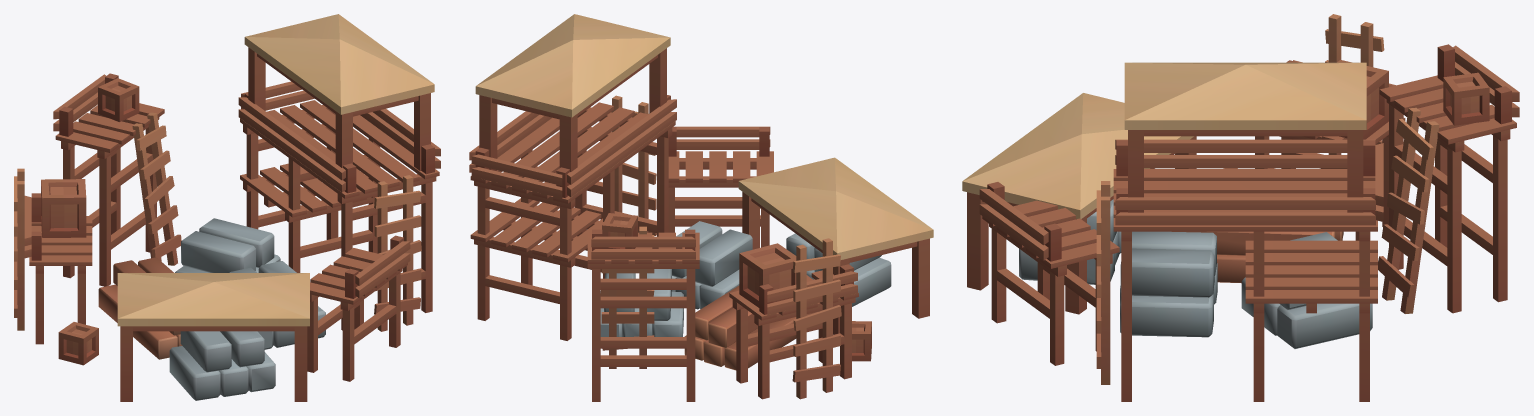
File: kay-andaime.gltf
3 views of the same model, side by side, from view 1: azimuth 30°, elevation 25°; view 2: azimuth 150°, elevation 25°; view 3: azimuth 270°, elevation 25° (orthographic). The views are drawn at different scales.
Parts seen in each view (by area): view 1: building_scaffolding; view 2: building_scaffolding; view 3: building_scaffolding.
Boxes of the visible parts, x1,y1,x2,y2 form: building_scaffolding: (14, 14, 440, 401); building_scaffolding: (469, 14, 933, 401); building_scaffolding: (962, 14, 1519, 401).
Bounding box in the file's own units: 9.5 × 6.49 × 10.55.
Materials: 1 (1 with a texture image).
